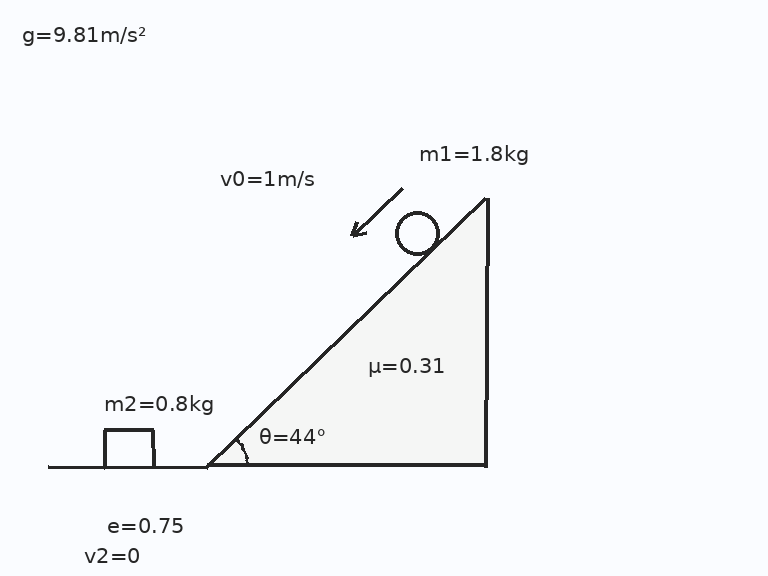ball: (393, 209, 441, 257)
block: (103, 428, 155, 468)
ramp: (205, 196, 487, 468)
